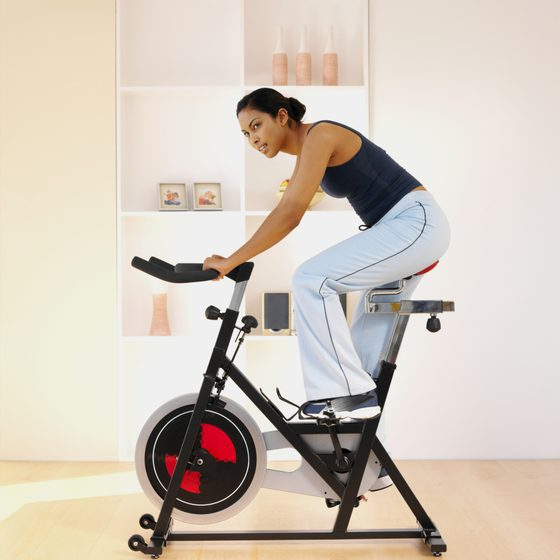gym_bike: (104, 250, 453, 560)
